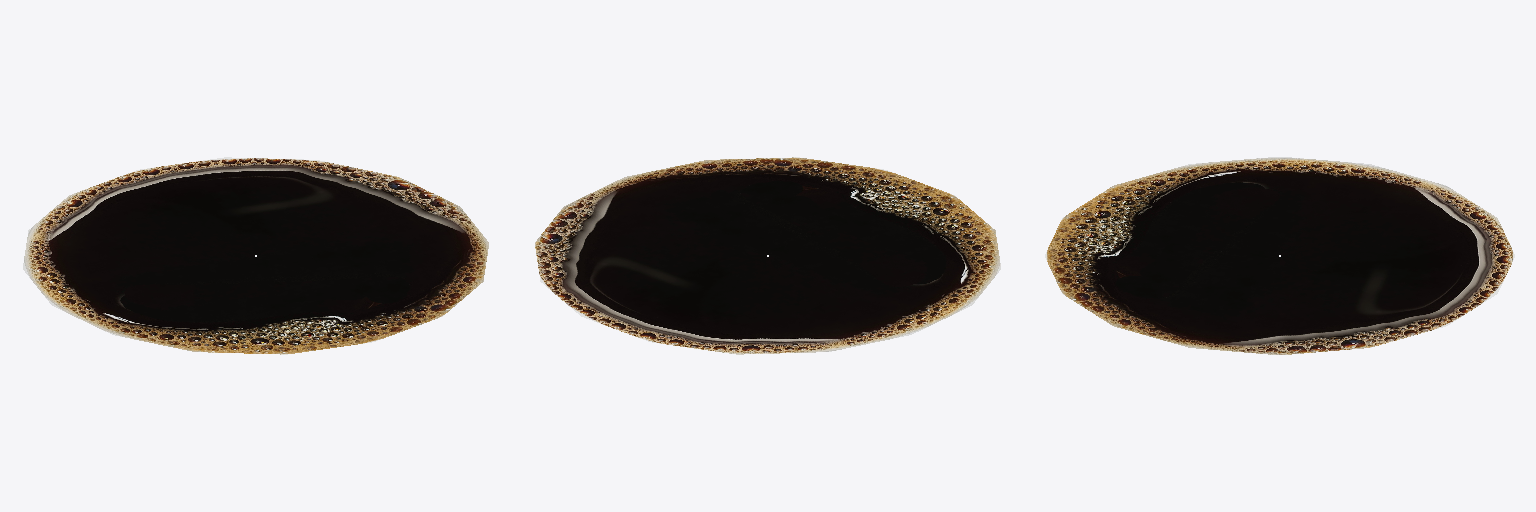
The picture shows the model from 3 angles: view 1: azimuth 30°, elevation 25°; view 2: azimuth 150°, elevation 25°; view 3: azimuth 270°, elevation 25°; orthographic projection.
Visible parts, largest first — view 1: Circle.001; view 2: Circle.001; view 3: Circle.001.
Boxes of the visible parts, <box> form: Circle.001: <box>23,157,488,354</box>; Circle.001: <box>535,157,1000,354</box>; Circle.001: <box>1045,157,1514,354</box>.
Bounding box in the file's own units: 22 × 0 × 22.
1 materials, 1 textured.